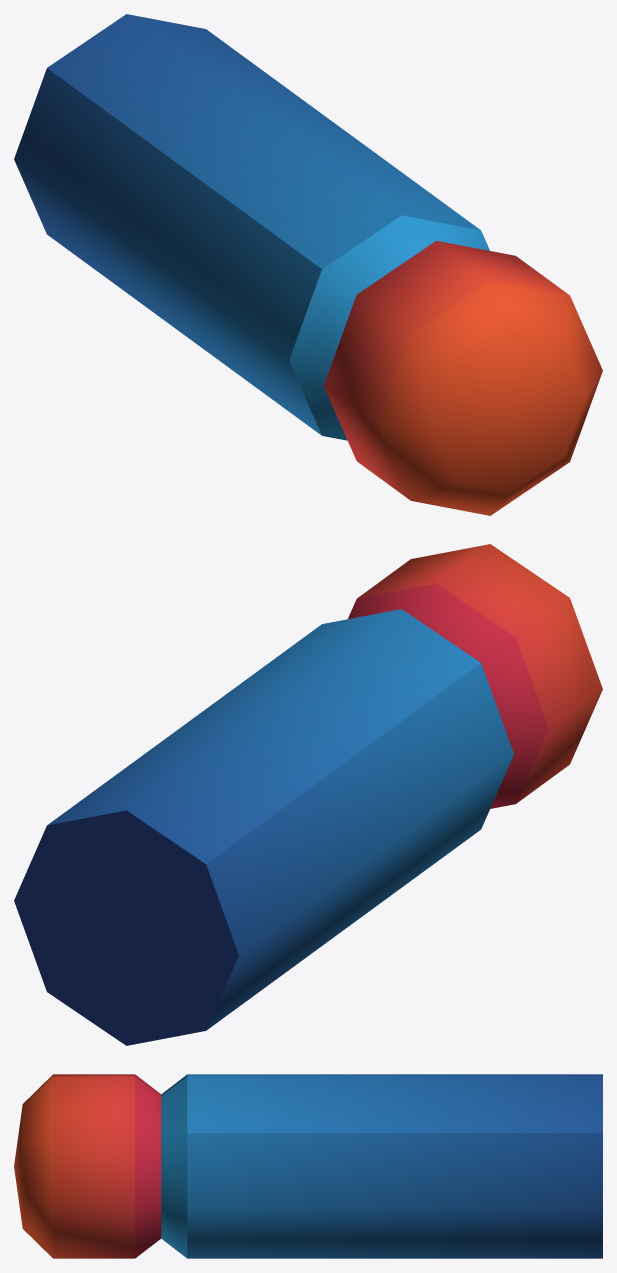
File: Bullet.glb
The picture shows the model from 3 angles, top to bottom: view 1: azimuth 30°, elevation 25°; view 2: azimuth 150°, elevation 25°; view 3: azimuth 270°, elevation 25°; orthographic projection. The views are drawn at different scales.
Parts seen in each view (by area): view 1: Bullet; view 2: Bullet; view 3: Bullet.
Part boxes in pixels (left/top/right/bottom): Bullet: left=14, top=14, right=602, bottom=515; Bullet: left=14, top=544, right=602, bottom=1045; Bullet: left=14, top=1074, right=602, bottom=1258.
Size of the model in its own units: 0.075 by 0.075 by 0.225.
1 material, 1 textured.
